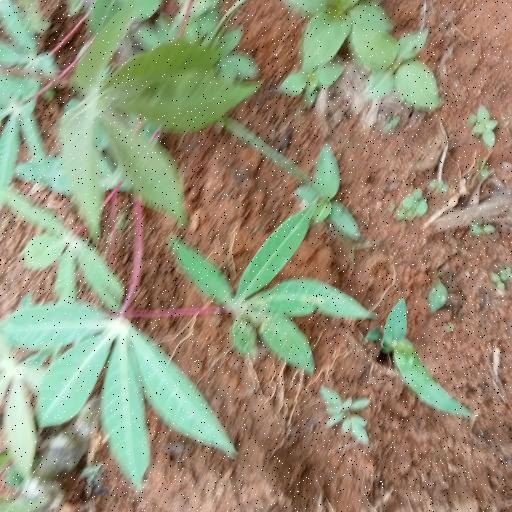Cassava_Mosaic: (68, 22, 240, 234), (6, 298, 216, 460)
